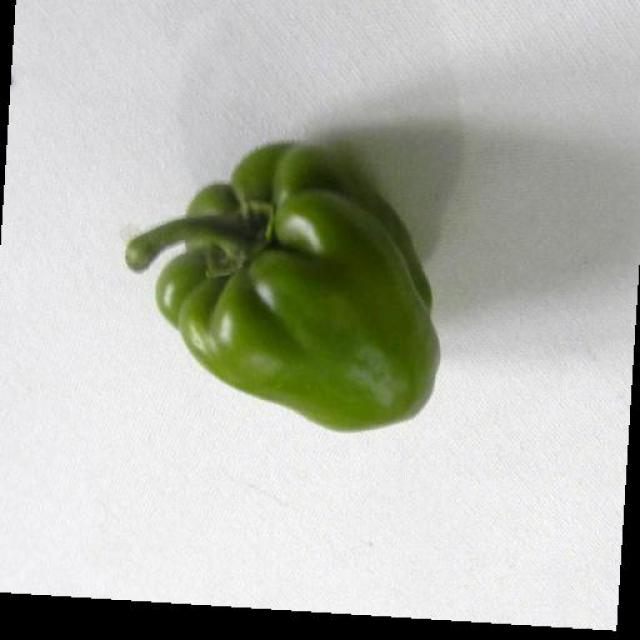Fresh_Capsicum: (102, 125, 508, 445)
